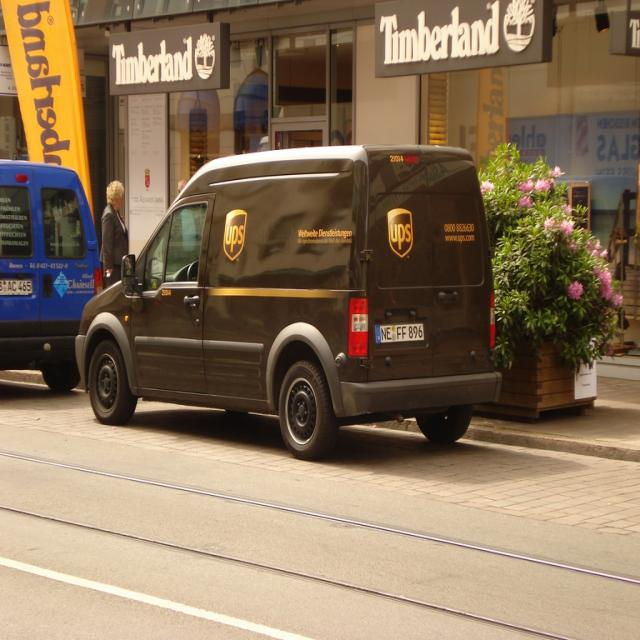ups: (224, 209, 249, 262), (389, 209, 414, 260)
